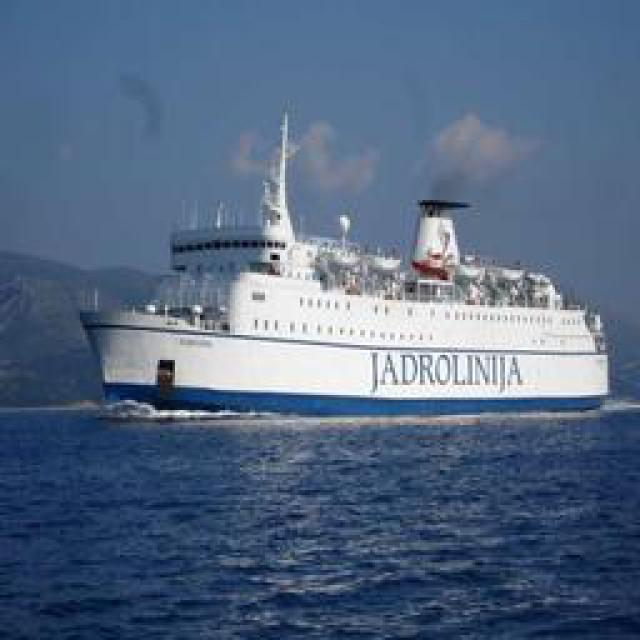Ship: (84, 168, 607, 416)
